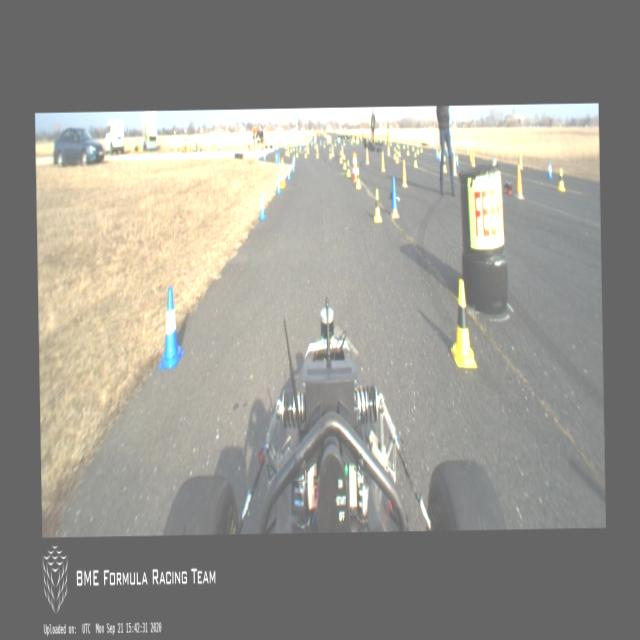blue_cone: (158, 287, 184, 370), (258, 190, 266, 220), (275, 172, 280, 194), (546, 160, 552, 178), (286, 163, 290, 180), (455, 152, 458, 168), (438, 148, 440, 163), (292, 158, 294, 171), (275, 151, 277, 163), (436, 148, 438, 160), (263, 151, 265, 162)
large_orange_cone: (280, 158, 284, 188), (282, 157, 285, 186), (354, 152, 357, 180), (352, 152, 354, 180)
unknown_cone: (390, 175, 400, 218), (514, 163, 524, 198), (402, 159, 408, 187), (452, 151, 457, 176), (380, 150, 385, 172), (471, 146, 475, 167), (518, 149, 522, 169), (364, 146, 368, 164), (386, 141, 389, 156)
yellow_cone: (449, 279, 476, 368), (374, 188, 382, 222), (558, 168, 564, 191), (355, 166, 360, 189), (412, 151, 417, 168), (442, 156, 447, 172), (346, 158, 350, 176), (342, 154, 346, 169), (392, 146, 396, 159), (395, 148, 398, 164), (406, 143, 409, 156), (339, 150, 342, 162), (328, 146, 331, 158), (304, 146, 307, 158), (316, 145, 318, 158), (398, 144, 400, 157), (296, 146, 298, 158), (284, 145, 286, 155), (420, 142, 422, 152)
